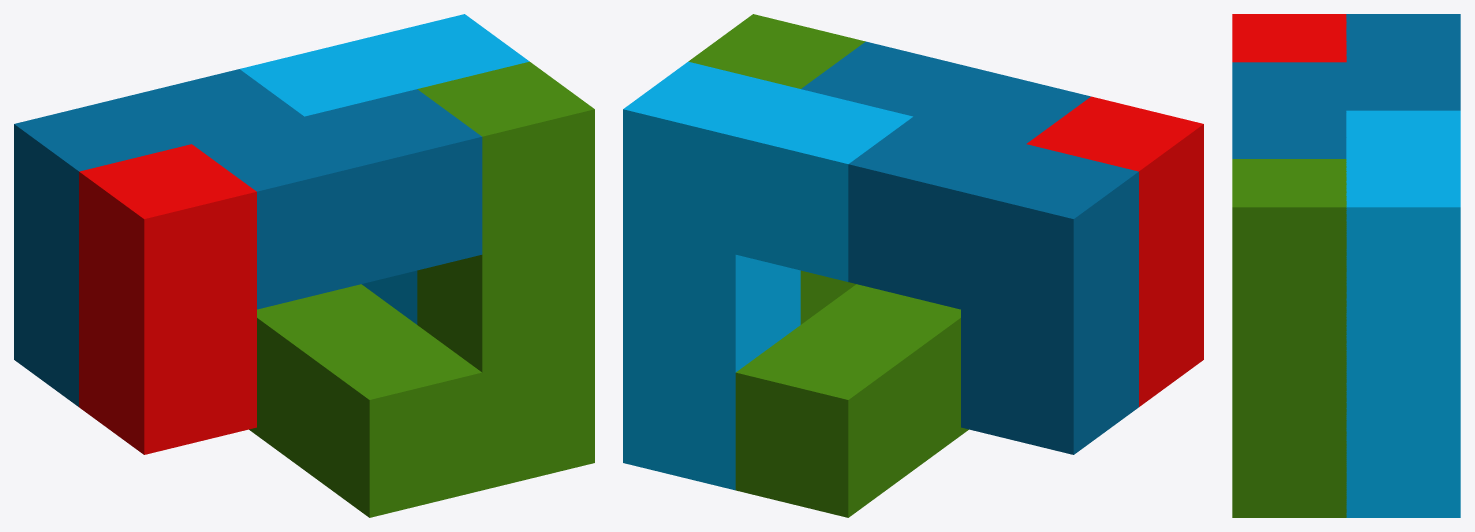
3 renders of one model, left to right at view 1: azimuth 30°, elevation 25°; view 2: azimuth 150°, elevation 25°; view 3: azimuth 270°, elevation 25°, orthographic. The views are drawn at different scales.
Parts seen in each view (by area): view 1: mergedBlocks(Clone); view 2: mergedBlocks(Clone); view 3: mergedBlocks(Clone).
Part boxes in pixels (<box>): mergedBlocks(Clone): <box>14,14,594,517</box>; mergedBlocks(Clone): <box>623,14,1203,517</box>; mergedBlocks(Clone): <box>1232,14,1460,517</box>.
Size of the model in its own units: 4 by 3 by 2.
4 materials, 4 textured.
